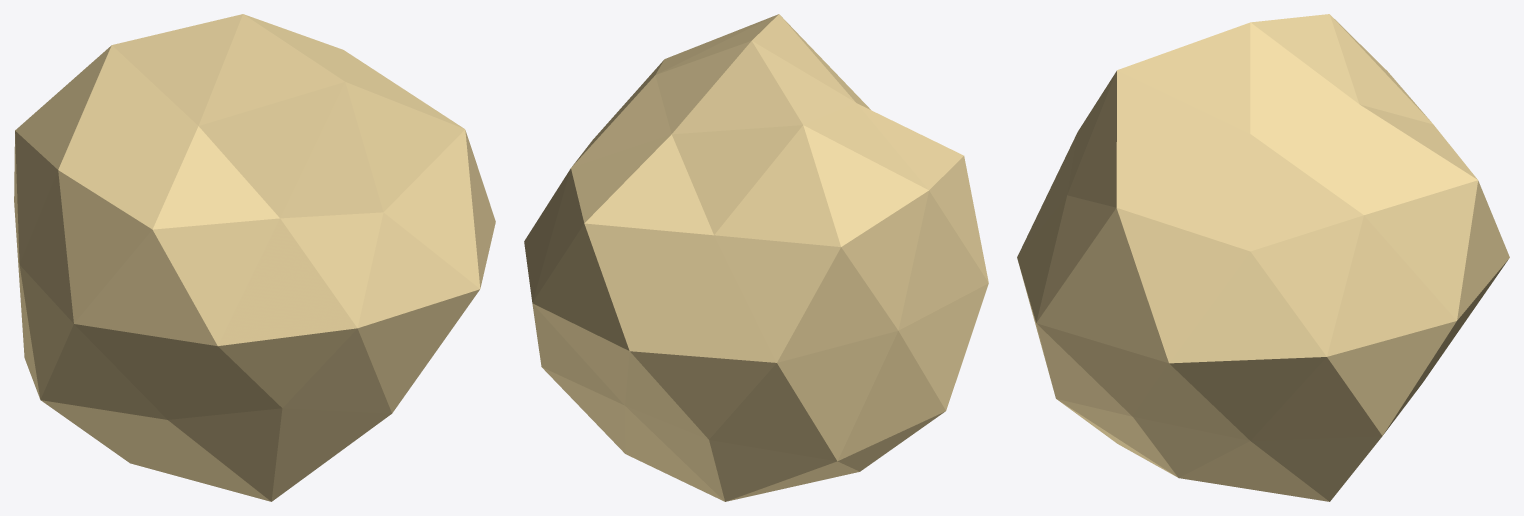
Rendered from tumbleweed.glb.
3 views of the same model, side by side, from view 1: azimuth 30°, elevation 25°; view 2: azimuth 150°, elevation 25°; view 3: azimuth 270°, elevation 25° (orthographic). The views are drawn at different scales.
Parts seen in each view (by area): view 1: wildwest-tumbleweed; view 2: wildwest-tumbleweed; view 3: wildwest-tumbleweed.
Part boxes in pixels (x1,y1,x2,y2): wildwest-tumbleweed: (14,14,495,501); wildwest-tumbleweed: (524,14,988,501); wildwest-tumbleweed: (1017,14,1509,501).
Bounding box in the file's own units: 0.4558 × 0.4731 × 0.4532.
